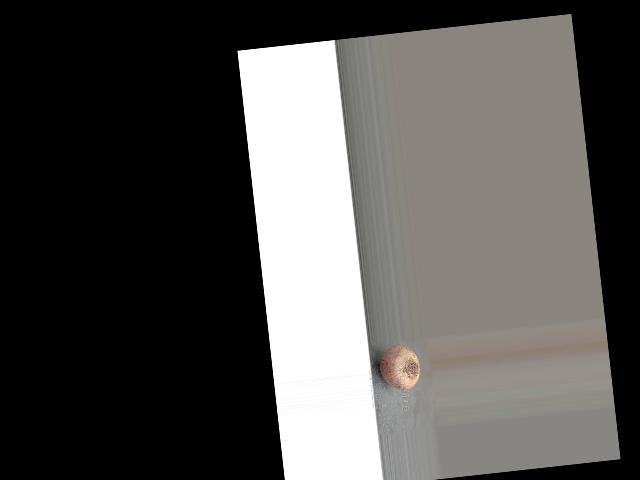beet: (377, 341, 421, 391)
